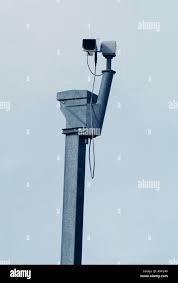Speed-Camera: (79, 32, 123, 64)
